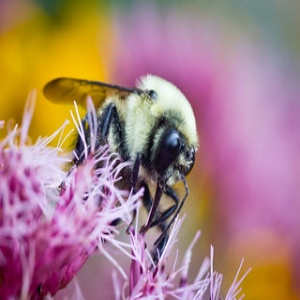bee: (42, 71, 201, 247)
